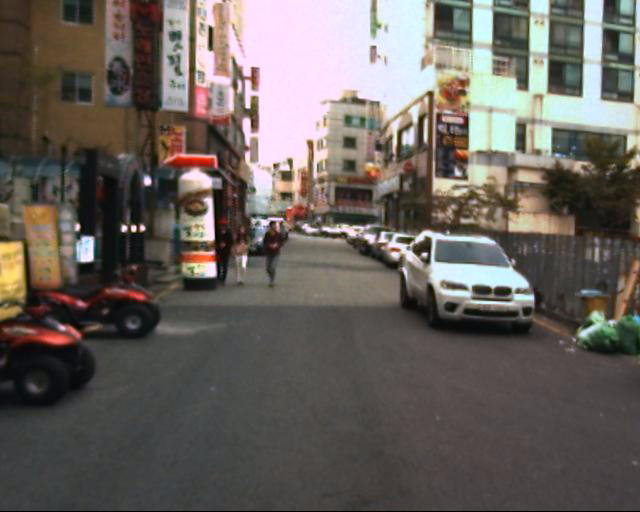person: (256, 206, 291, 295), (228, 208, 256, 295), (211, 212, 234, 288)
